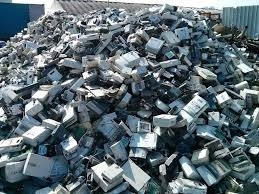metal: (20, 148, 63, 182), (87, 158, 125, 191), (117, 155, 150, 192), (175, 92, 213, 122), (19, 123, 53, 149), (111, 49, 145, 74), (167, 174, 208, 194), (176, 152, 201, 178), (125, 130, 158, 149), (148, 111, 179, 131), (141, 35, 168, 57), (59, 136, 81, 162), (191, 62, 217, 84), (108, 137, 129, 163), (22, 98, 47, 119), (211, 89, 237, 109), (58, 103, 79, 127), (188, 147, 213, 165), (28, 87, 53, 103), (44, 66, 65, 84), (41, 116, 61, 131)
